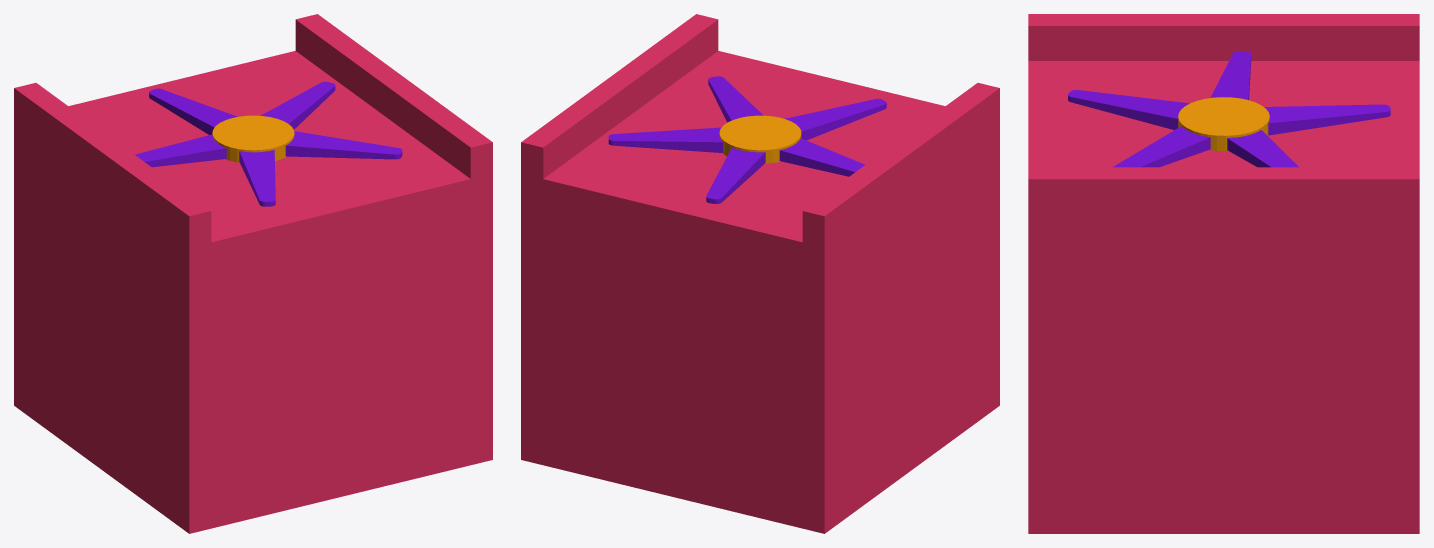
File: ConveyorBelts4.fbx
3 renders of one model, left to right at view 1: azimuth 30°, elevation 25°; view 2: azimuth 150°, elevation 25°; view 3: azimuth 270°, elevation 25°, orthographic. The views are drawn at different scales.
Visible parts, largest first — view 1: WindConveyorBase, TurbineRoot, Cube, Cube.002, Cube.003, Cube.001, Cube.004; view 2: WindConveyorBase, TurbineRoot, Cube.004, Cube.001, Cube.003, Cube.002, Cube; view 3: WindConveyorBase, TurbineRoot, Cube.003, Cube.001, Cube, Cube.004, Cube.002.
Boxes of the visible parts, x1,y1,x2,y2 form: WindConveyorBase: (14,14,492,533); TurbineRoot: (212,115,294,162); Cube: (285,131,402,159); Cube.002: (135,134,226,167); Cube.003: (149,88,237,134); Cube.001: (239,150,275,206); Cube.004: (260,81,335,129); WindConveyorBase: (521,14,999,533); TurbineRoot: (719,115,801,163); Cube.004: (608,127,723,152); Cube.001: (785,98,886,140); Cube.003: (706,147,765,203); Cube.002: (779,138,865,176); Cube: (708,76,763,122); WindConveyorBase: (1028,14,1419,533); TurbineRoot: (1178,97,1269,150); Cube.003: (1264,104,1390,135); Cube.001: (1068,90,1189,130); Cube: (1113,126,1210,167); Cube.004: (1227,130,1298,167); Cube.002: (1210,51,1251,100).
Size of the model in its own units: 200 by 200 by 200.
